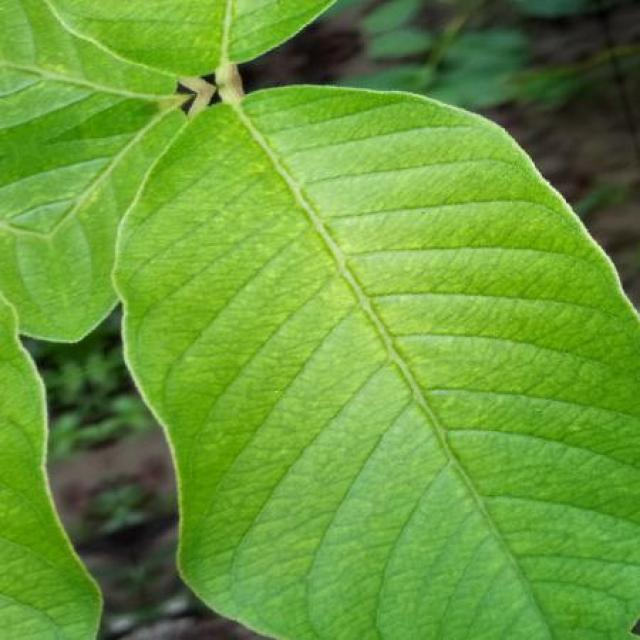Disease Free: (115, 86, 640, 640)
